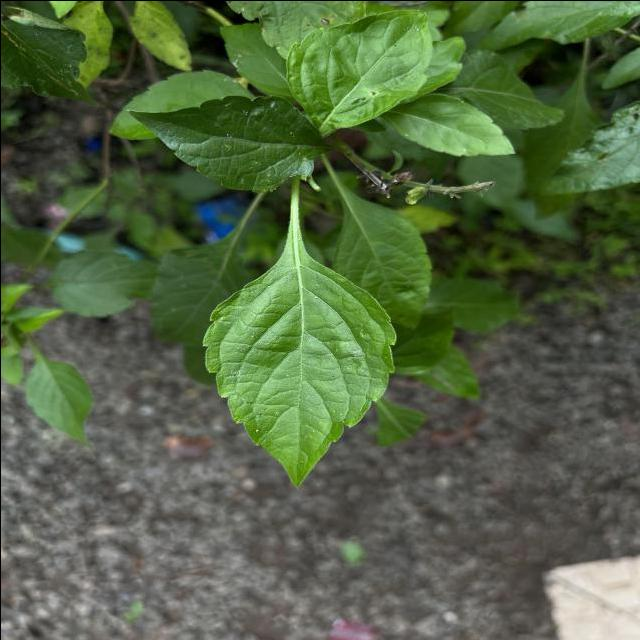Ocimum gratissimum: (197, 236, 399, 491), (119, 91, 334, 193), (280, 6, 435, 133)
